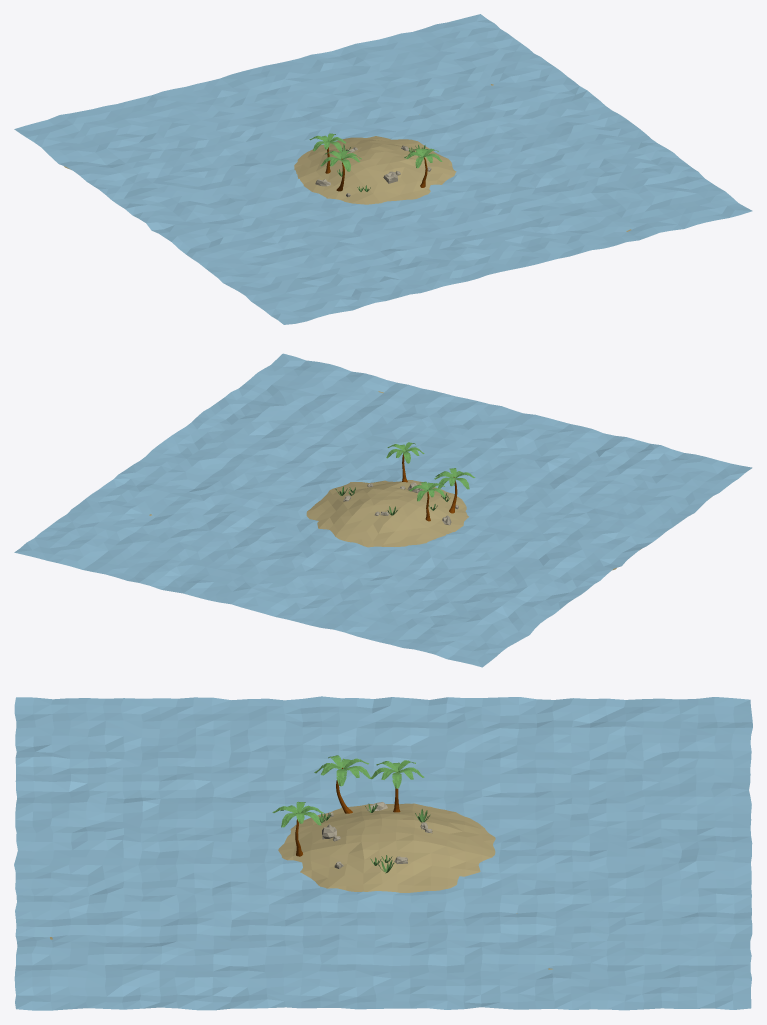
The model's file is island.dae.
3 renders of one model, top to bottom at view 1: azimuth 30°, elevation 25°; view 2: azimuth 150°, elevation 25°; view 3: azimuth 270°, elevation 25°, orthographic. The views are drawn at different scales.
Visible parts, largest first — view 1: Plane_002, Plane_001; view 2: Plane_002, Plane_001; view 3: Plane_002, Plane_001.
Part boxes in pixels (left/top/right/bottom): Plane_002: left=14, top=14, right=752, bottom=324; Plane_001: left=64, top=84, right=631, bottom=231; Plane_002: left=14, top=353, right=752, bottom=667; Plane_001: left=149, top=391, right=640, bottom=570; Plane_002: left=14, top=696, right=752, bottom=1010; Plane_001: left=50, top=803, right=552, bottom=969.
Size of the model in its own units: 11.26 by 11.26 by 1.03.
